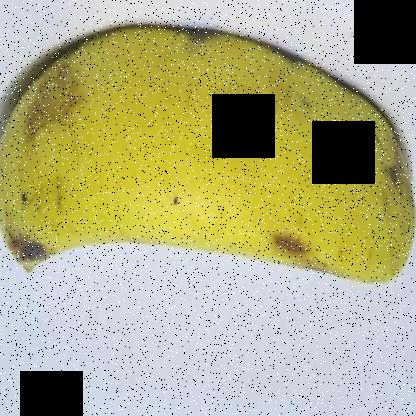freshripe: (1, 12, 415, 307)
